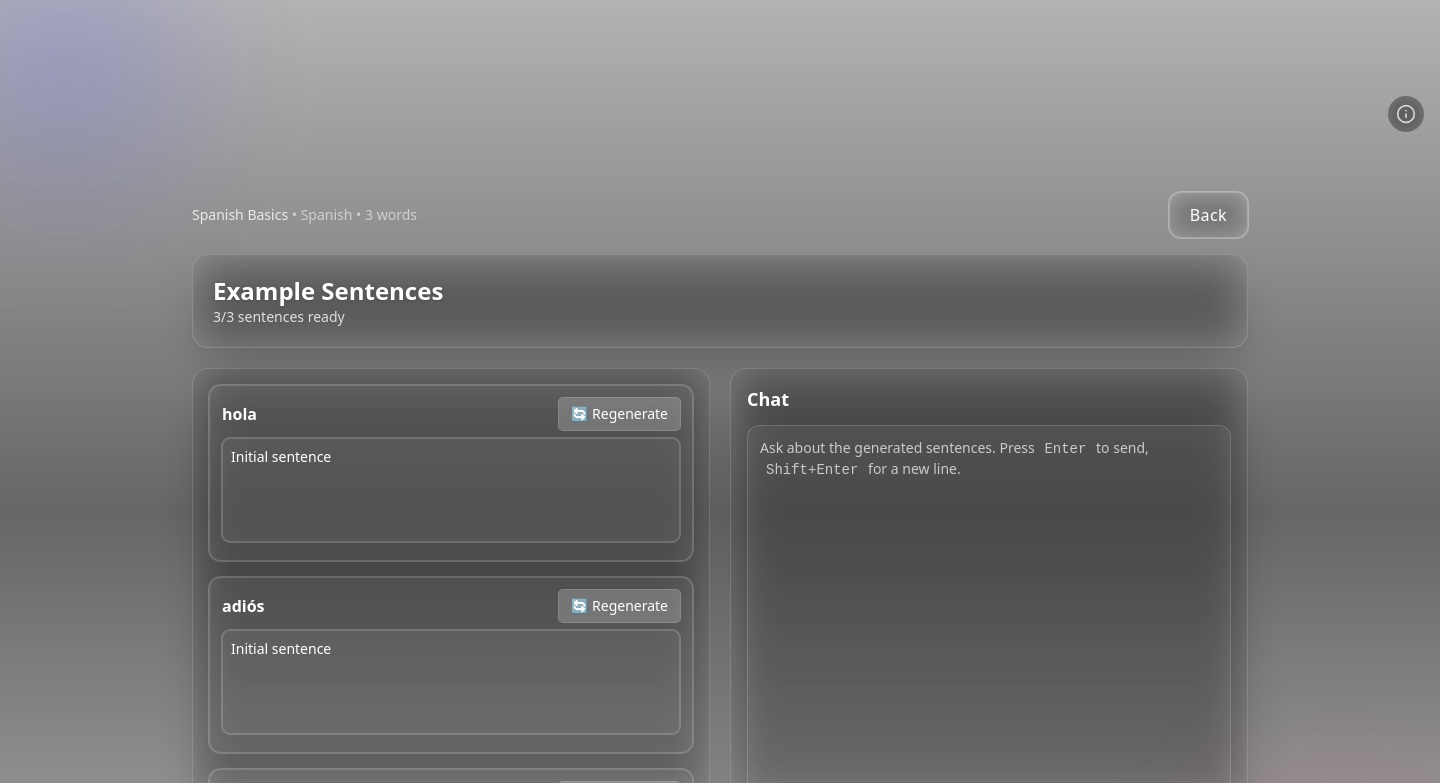
it: SentencesPage › shows loading state for individual word when generating
This screenshot has width=1440, height=783.
Expected: the text "hola" is shown, x1=222 y1=402 x2=257 y2=426
Step 1. Click the button with aria-label "Regenerate sentence for hola" → (620, 414), box x1=559 y1=398 x2=680 y2=430
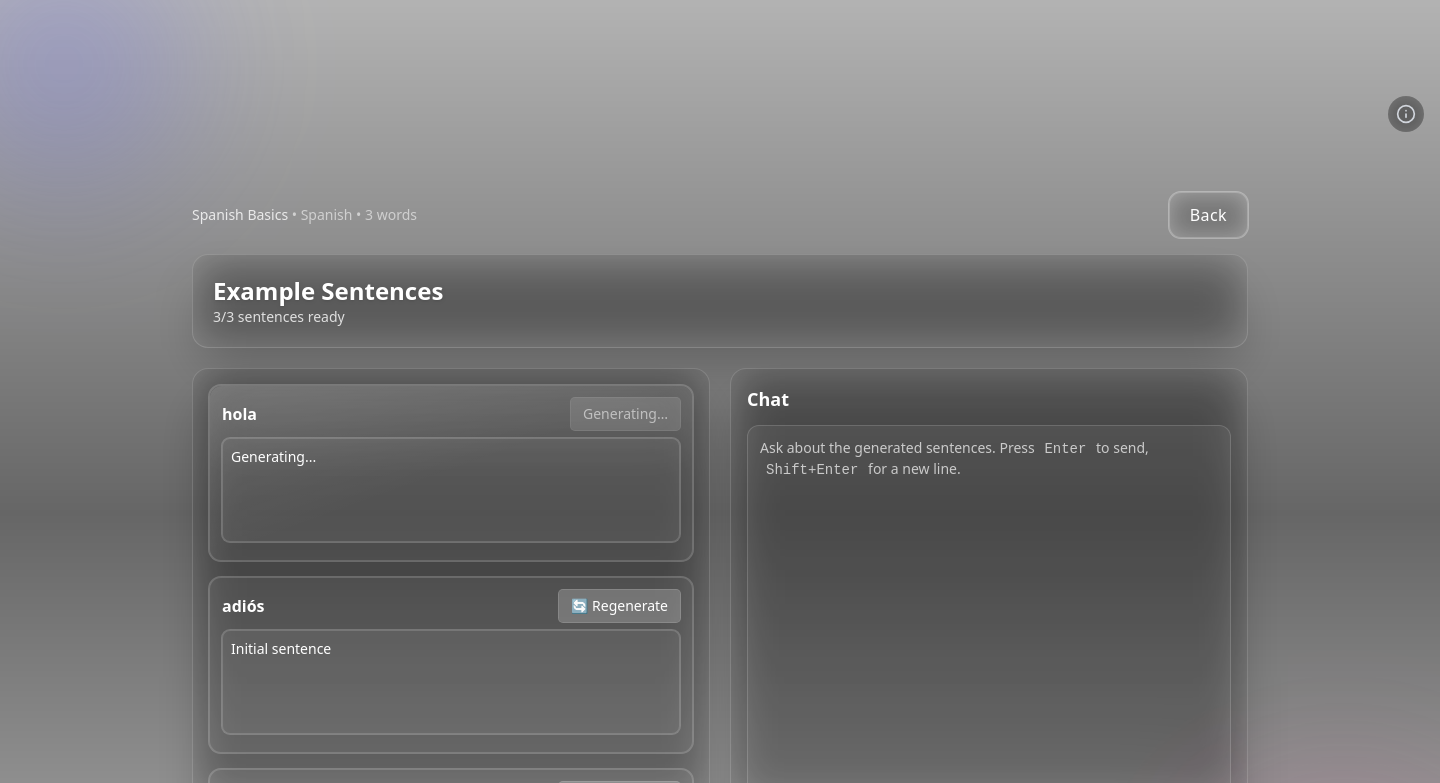
Expected: the button "Generating…" is disabled, x1=571 y1=398 x2=680 y2=430
